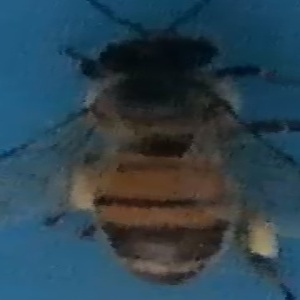bee: (20, 8, 293, 294)
